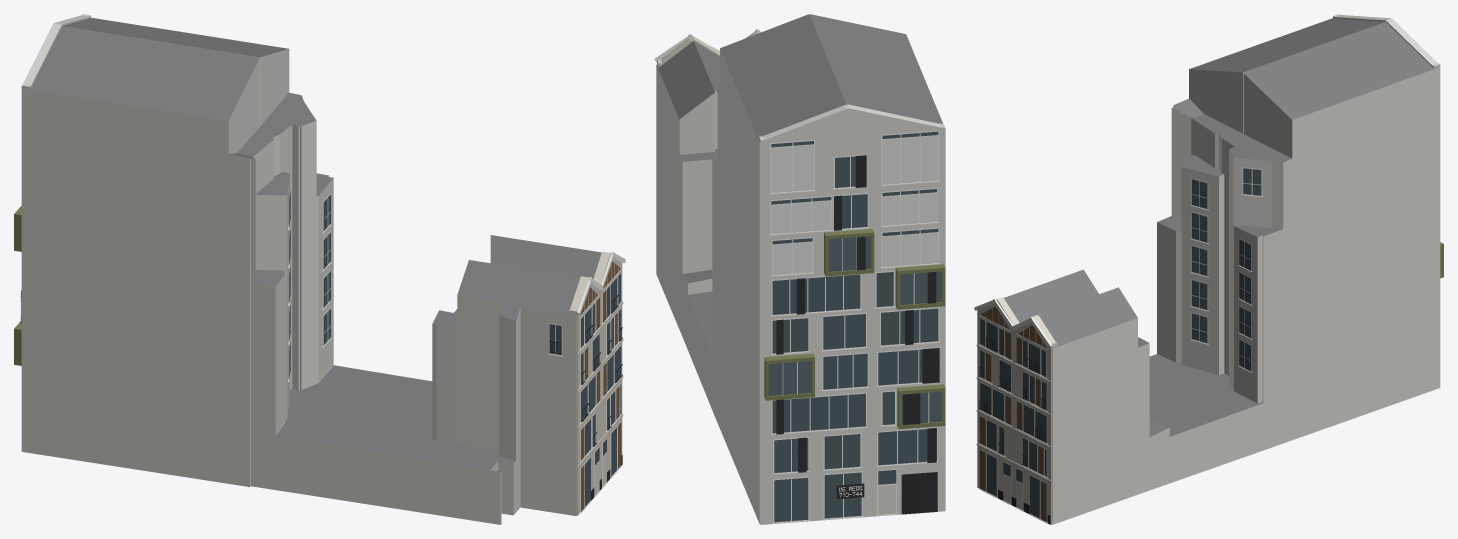
File: de-rede.glb
3 views of the same model, side by side, from view 1: azimuth 30°, elevation 25°; view 2: azimuth 150°, elevation 25°; view 3: azimuth 270°, elevation 25° (orthographic). The views are drawn at different scales.
Parts seen in each view (by area): view 1: de-rede; view 2: de-rede; view 3: de-rede.
Boxes of the visible parts, box(x1,y1,x2,y2) form: de-rede: box(14, 14, 625, 524); de-rede: box(654, 14, 945, 524); de-rede: box(974, 14, 1443, 524).
Bounding box in the file's own units: 36.78 × 30.9 × 38.17.
